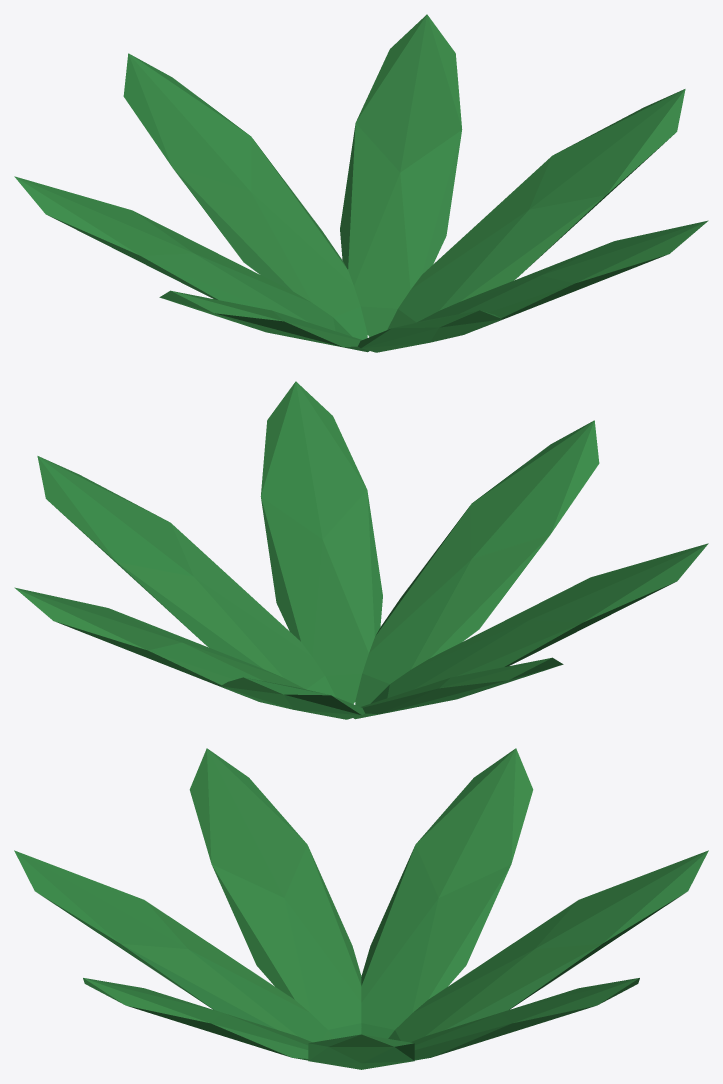
Rendered from fern.glb.
3 renders of one model, top to bottom at view 1: azimuth 30°, elevation 25°; view 2: azimuth 150°, elevation 25°; view 3: azimuth 270°, elevation 25°, orthographic.
Parts seen in each view (by area): view 1: fern; view 2: fern; view 3: fern.
Part boxes in pixels (left/top/right/bottom): fern: left=14, top=14, right=708, bottom=352; fern: left=14, top=381, right=708, bottom=719; fern: left=14, top=748, right=708, bottom=1069.
Size of the model in its own units: 1.66 by 0.4933 by 1.71.
